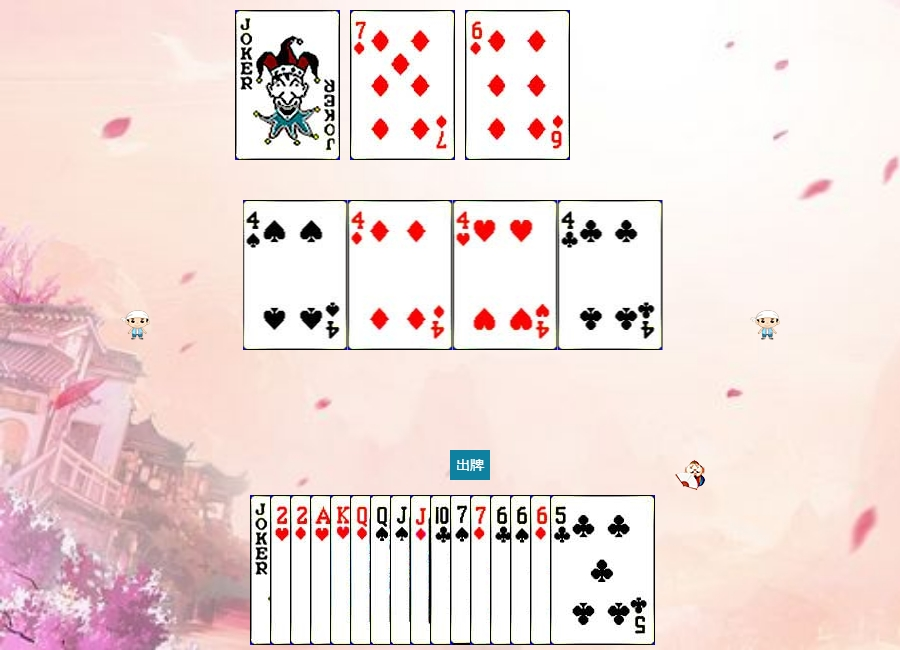10~2: (430, 495, 535, 645)
11~1: (410, 495, 515, 645)
11~4: (390, 495, 495, 645)
12~1: (350, 495, 455, 645)
12~4: (370, 495, 475, 645)
13~3: (330, 495, 435, 645)
14~3: (310, 495, 415, 645)
15~1: (290, 495, 395, 645)
15~3: (270, 495, 375, 645)
17~3: (235, 10, 340, 160), (250, 495, 355, 645)
4~1: (348, 200, 453, 350)
4~2: (558, 200, 663, 350)
4~3: (453, 200, 558, 350)
4~4: (243, 200, 348, 350)
5~2: (550, 495, 655, 645)
6~1: (465, 10, 570, 160), (530, 495, 635, 645)
6~2: (490, 495, 595, 645)
6~4: (510, 495, 615, 645)
7~1: (350, 10, 455, 160), (470, 495, 575, 645)
7~4: (450, 495, 555, 645)
